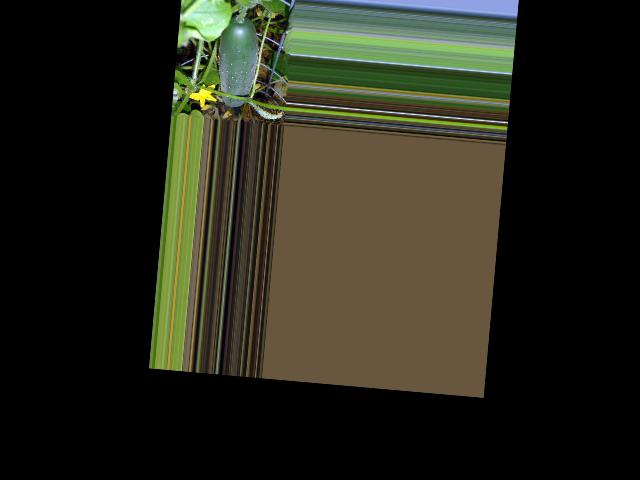cucumber: (214, 14, 262, 108)
